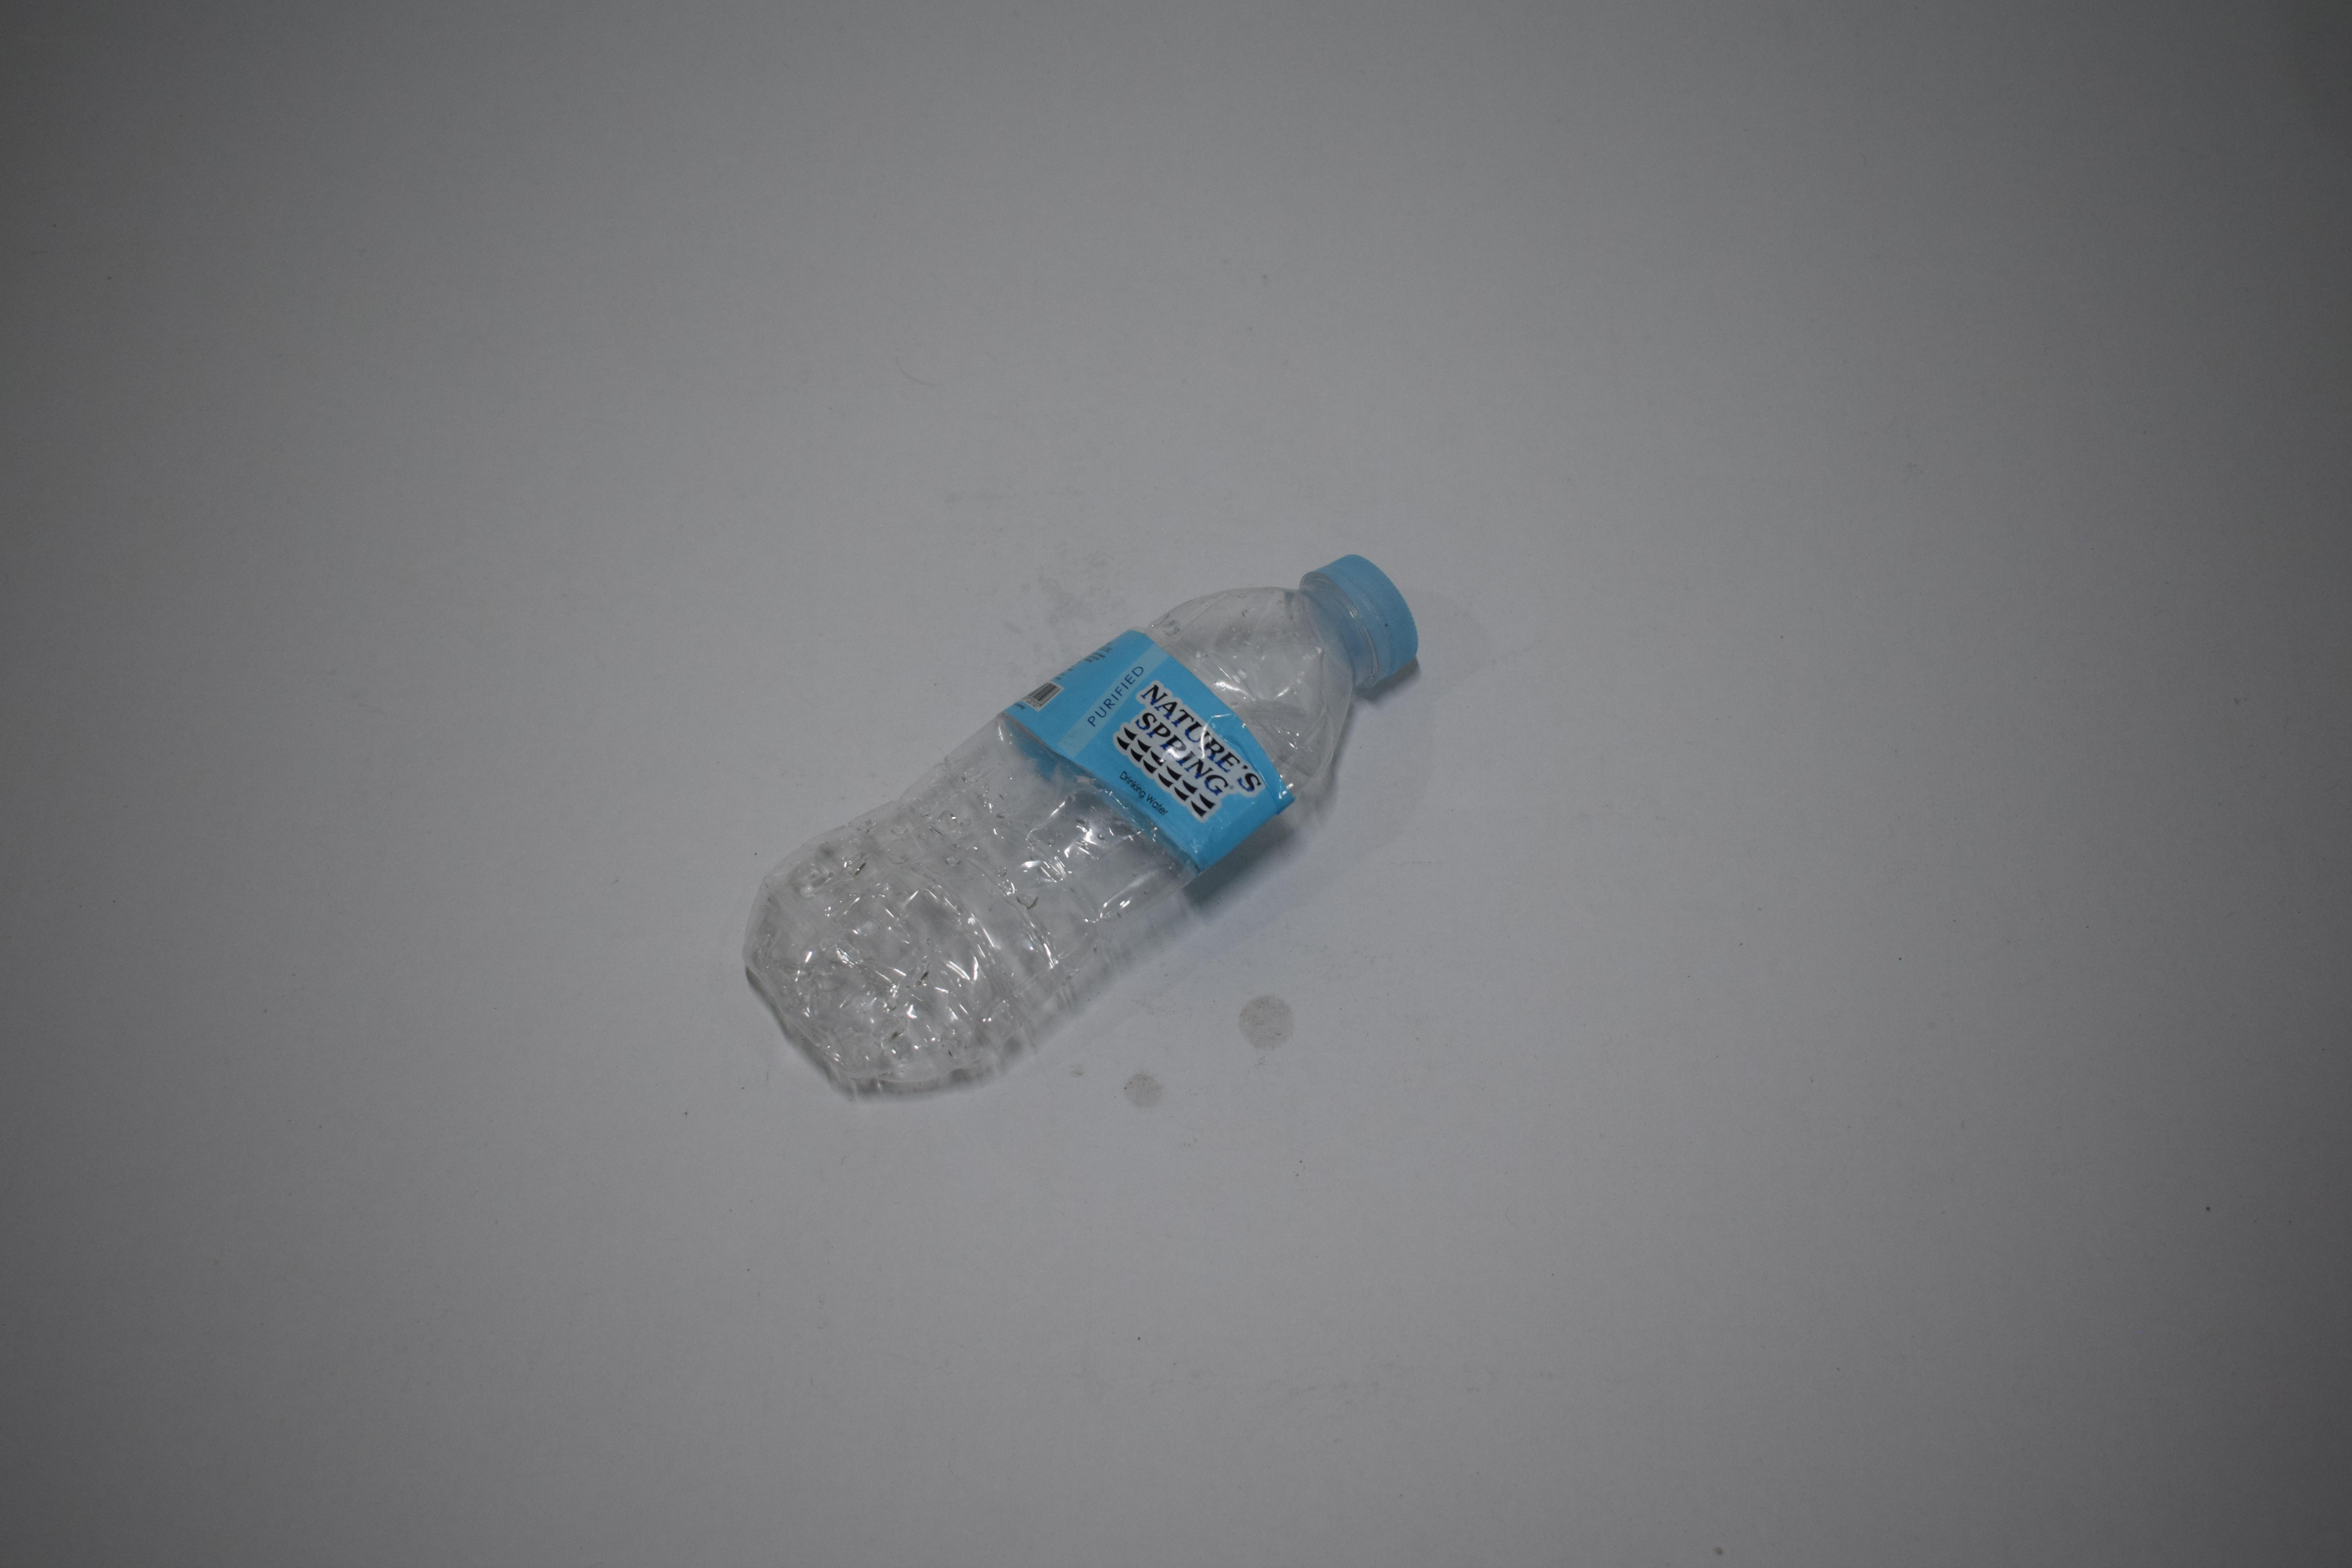bottle: (619, 0, 1306, 282)
